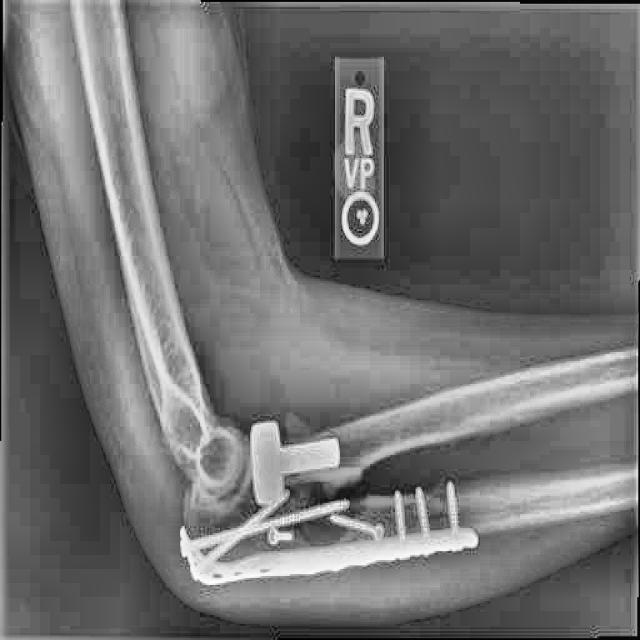elbow positive: (287, 471, 392, 551)
